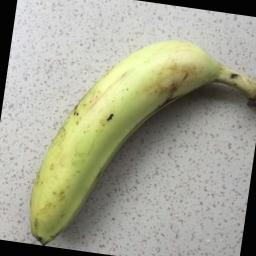Banana Ripe: (11, 0, 256, 256)
